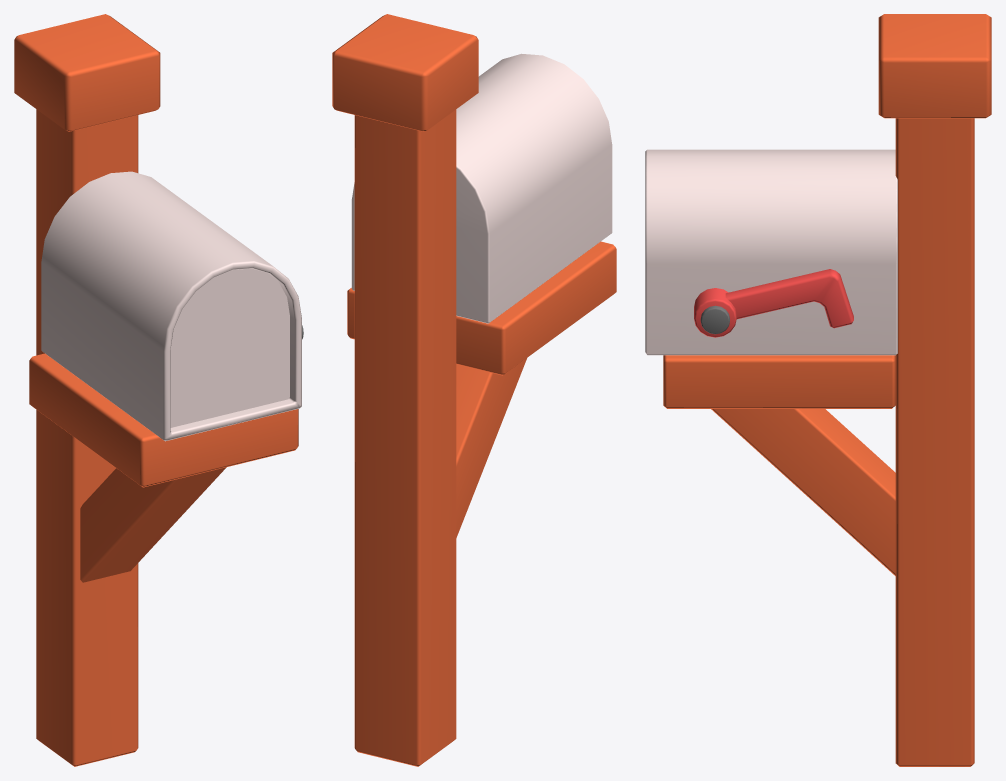
Rendered from Farm_11_Mail_Box_1.glb.
3 views of the same model, side by side, from view 1: azimuth 30°, elevation 25°; view 2: azimuth 150°, elevation 25°; view 3: azimuth 270°, elevation 25° (orthographic).
Visible parts, largest first — view 1: Farm_11_Mail_Box_1; view 2: Farm_11_Mail_Box_1; view 3: Farm_11_Mail_Box_1.
Part boxes in pixels (x1,y1,x2,y2): Farm_11_Mail_Box_1: (14,14,303,766); Farm_11_Mail_Box_1: (332,14,616,766); Farm_11_Mail_Box_1: (645,14,991,766).
Size of the model in its own units: 0.467 by 1.73 by 0.7596.
Materials: 1 (1 with a texture image).
